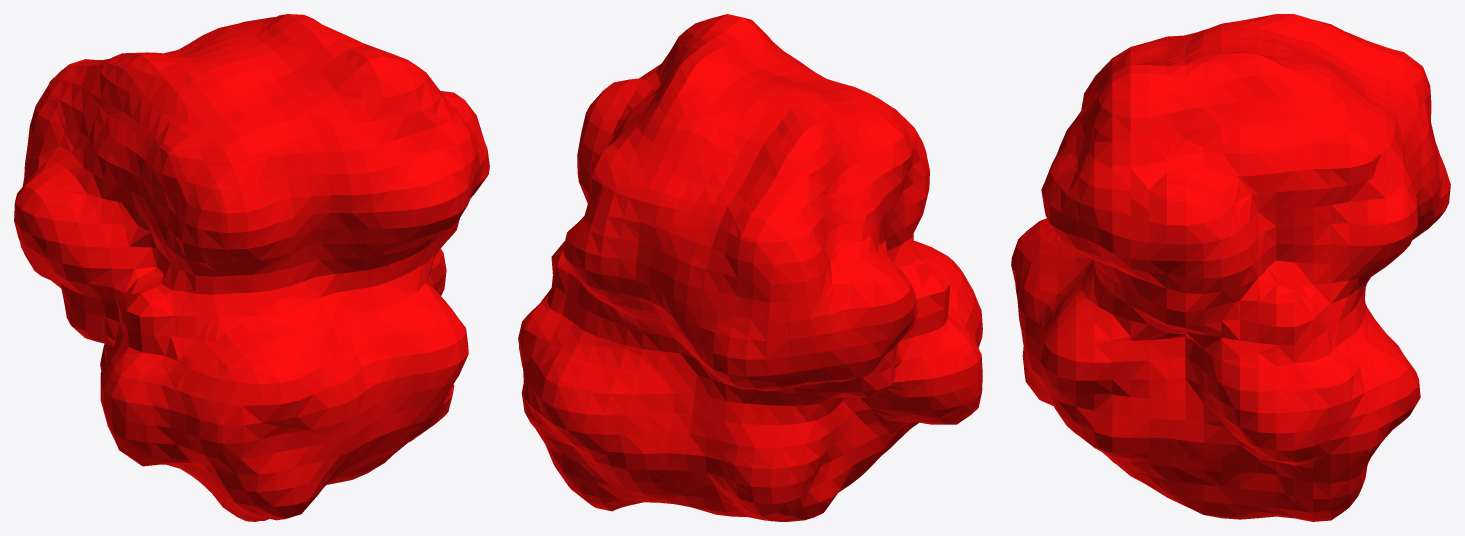
The model's file is entH_coarse.dae.
3 views of the same model, side by side, from view 1: azimuth 30°, elevation 25°; view 2: azimuth 150°, elevation 25°; view 3: azimuth 270°, elevation 25° (orthographic).
Visible parts, largest first — view 1: entH; view 2: entH; view 3: entH.
Part boxes in pixels (<box>): entH: <box>14,14,489,521</box>; entH: <box>518,14,982,521</box>; entH: <box>1011,14,1450,521</box>.
Bounding box in the file's own units: 60.63 × 64.75 × 58.15.
